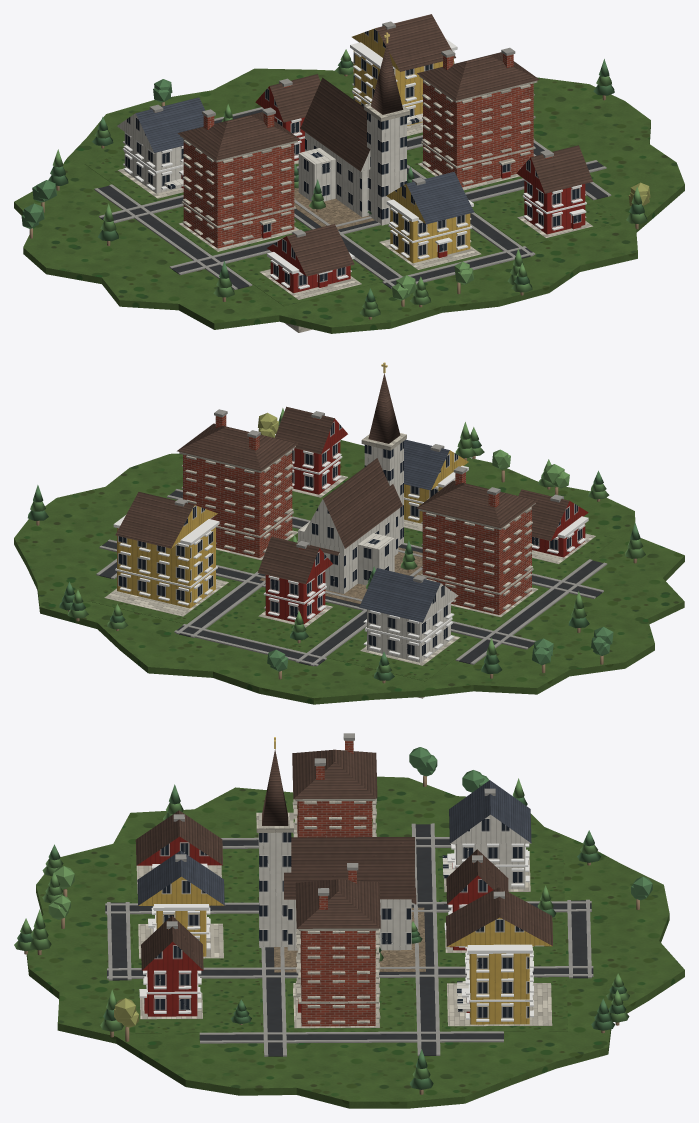
The model's file is city_nordic_medium.gltf.
3 views of the same model, one above another, from view 1: azimuth 30°, elevation 25°; view 2: azimuth 150°, elevation 25°; view 3: azimuth 270°, elevation 25° (orthographic). The views are drawn at different scales.
Visible parts, largest first — view 1: city_nordic_medium; view 2: city_nordic_medium; view 3: city_nordic_medium.
Boxes of the visible parts, x1,y1,x2,y2 form: city_nordic_medium: (14,14,684,333); city_nordic_medium: (14,362,684,704); city_nordic_medium: (14,733,684,1108).
Size of the model in its own units: 3.12 by 1.07 by 2.71.
17 materials, 11 textured.
